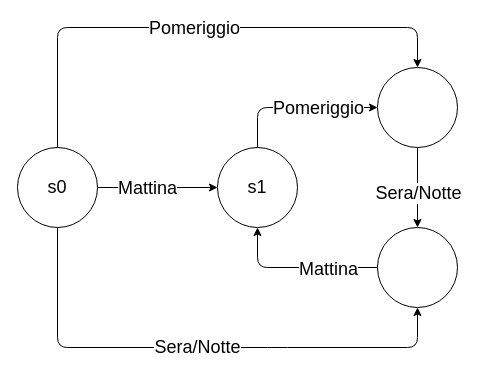
Image size: 478x376. Some labels were removed from this diagram. Each missing label, with the centre of its shape:
s2: point 417,107
s3: point 417,267
